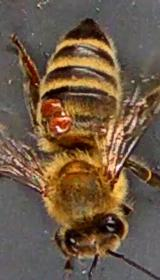varroa_mite: (32, 88, 72, 116), (44, 110, 80, 141)
